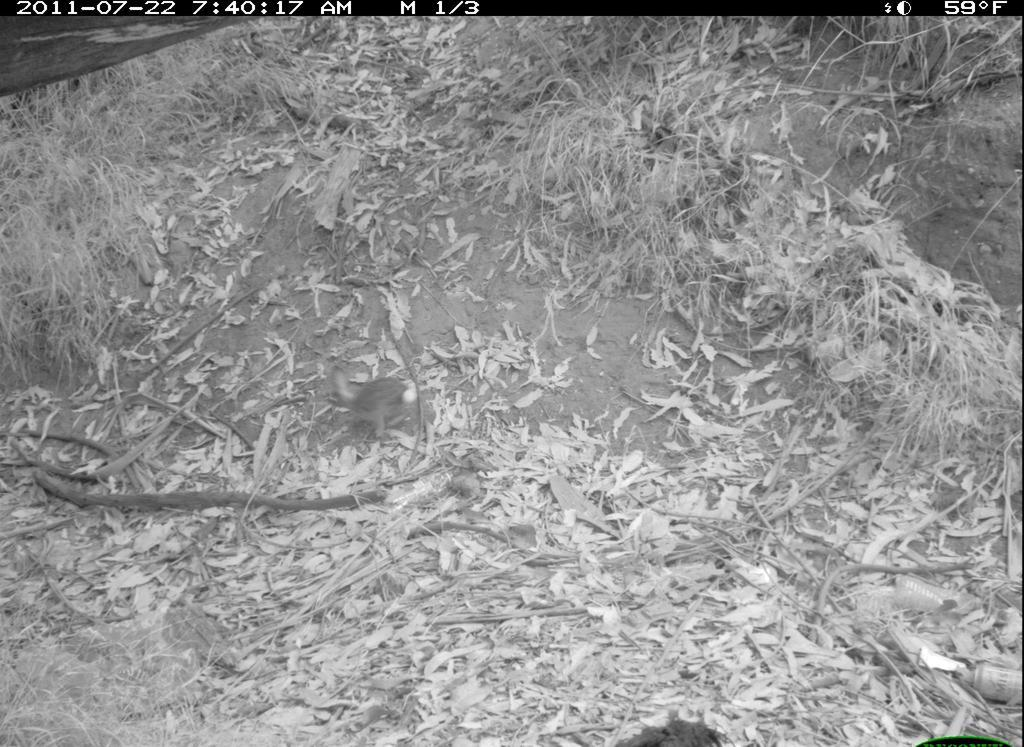rabbit: (305, 358, 437, 459)
